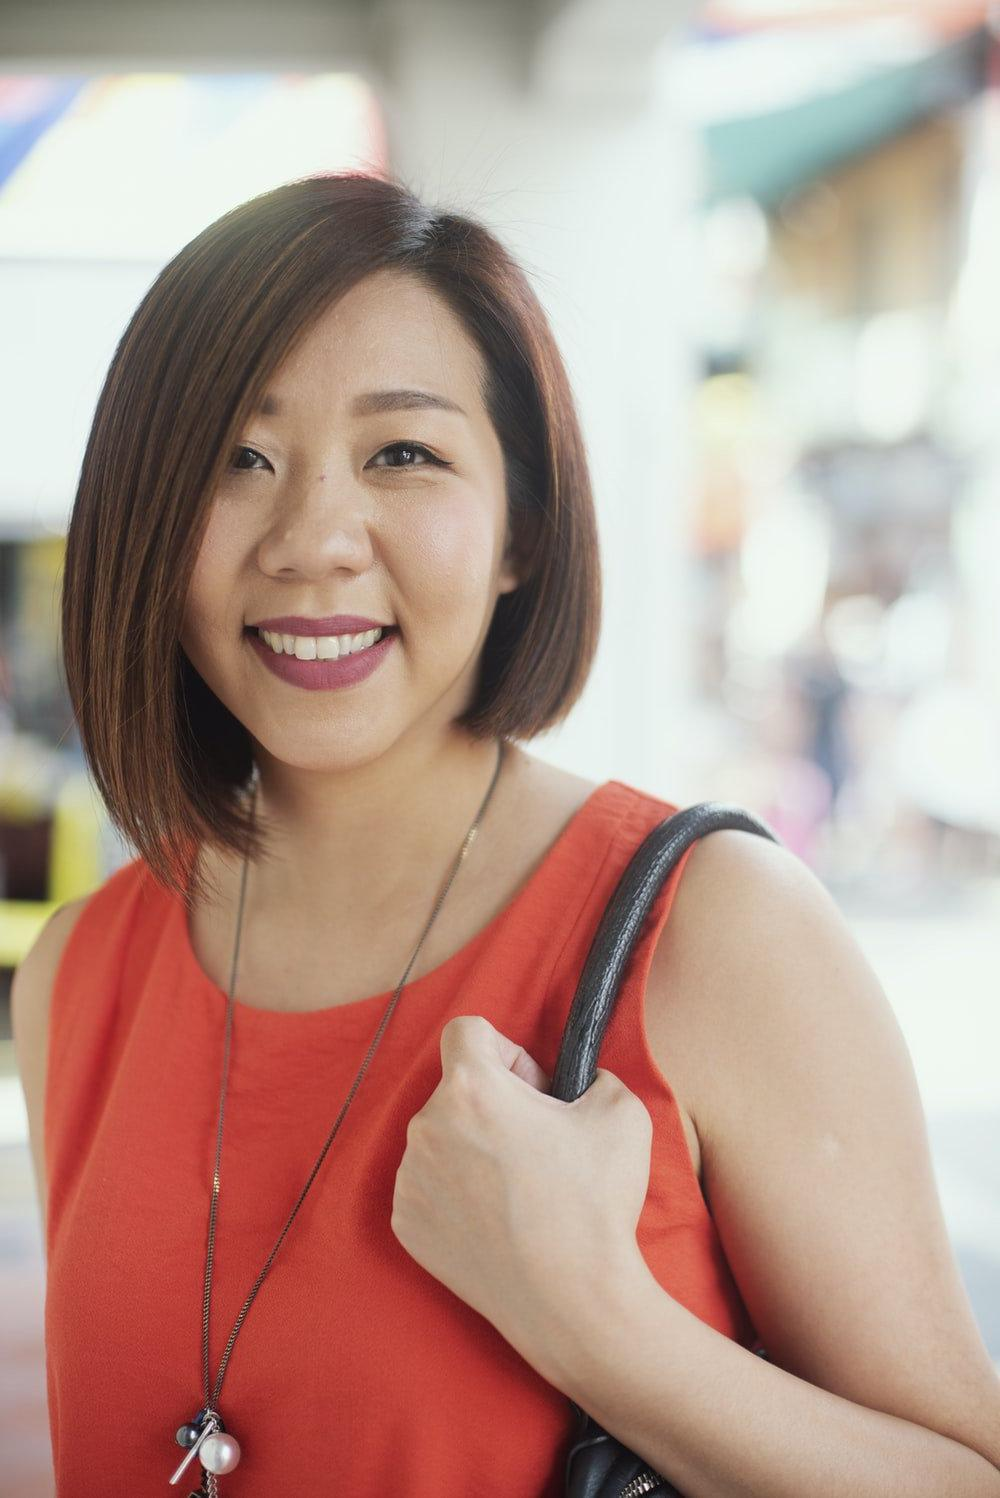Sober: (187, 311, 504, 745)
